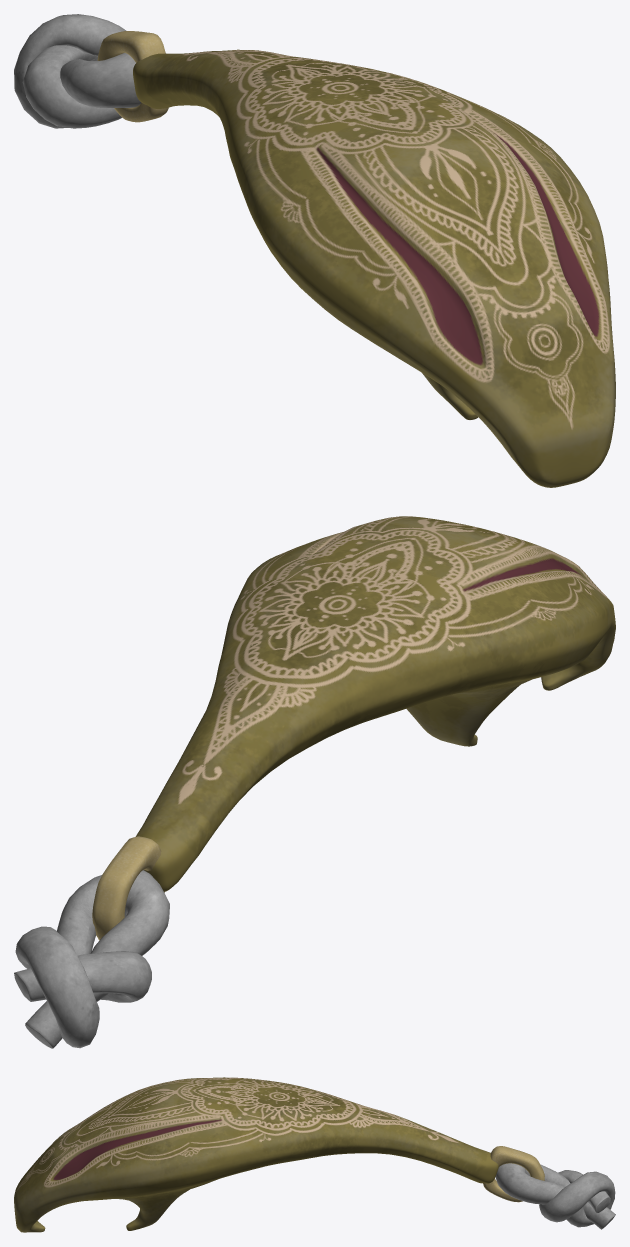
Rendered from Snake.fbx.
3 renders of one model, top to bottom at view 1: azimuth 30°, elevation 25°; view 2: azimuth 150°, elevation 25°; view 3: azimuth 270°, elevation 25°, orthographic. The views are drawn at different scales.
Parts seen in each view (by area): view 1: Snakeheadfin:Snakeheadfin:Group38632; view 2: Snakeheadfin:Snakeheadfin:Group38632; view 3: Snakeheadfin:Snakeheadfin:Group38632.
Boxes of the visible parts, <box> form: Snakeheadfin:Snakeheadfin:Group38632: <box>14,14,615,487</box>; Snakeheadfin:Snakeheadfin:Group38632: <box>14,516,615,1048</box>; Snakeheadfin:Snakeheadfin:Group38632: <box>14,1077,615,1232</box>.
Size of the model in its own units: 15.67 by 12.63 by 49.03.
